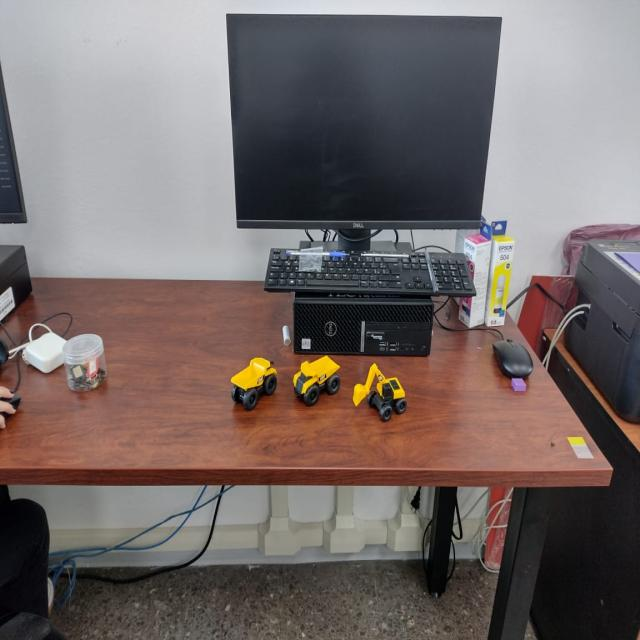dump-truck: (229, 354, 278, 410), (291, 355, 341, 406)
excavator: (352, 360, 407, 422)
